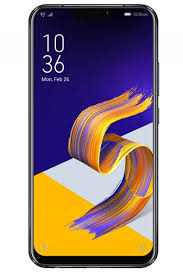asus: (25, 2, 163, 272)
